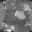people: (14, 10, 25, 20)
